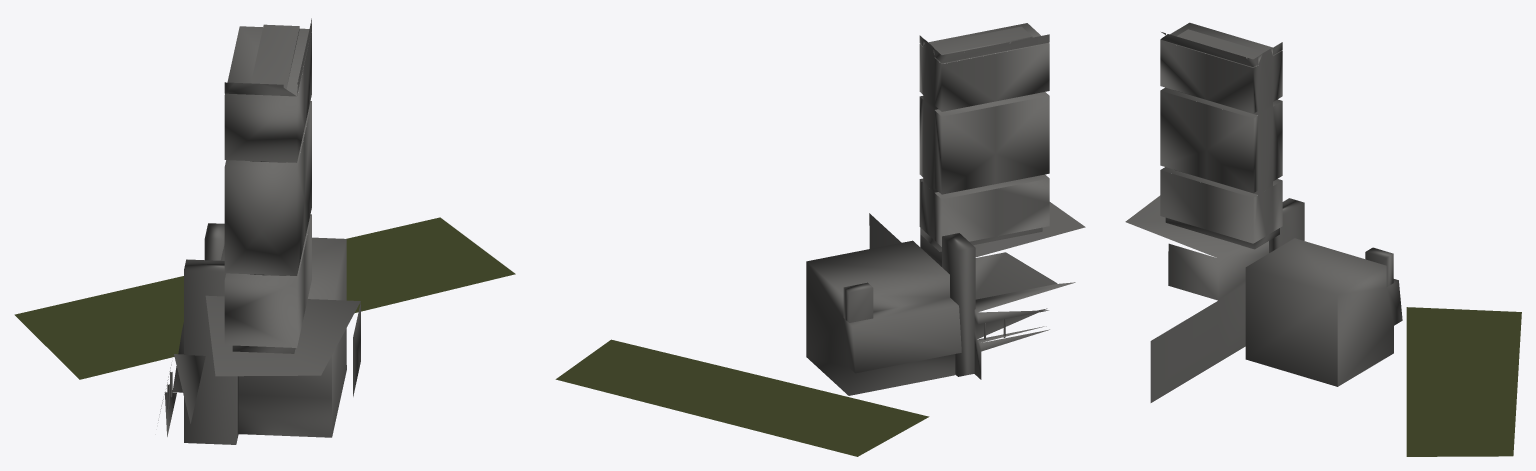
The picture shows the model from 3 angles, left to right: view 1: azimuth 30°, elevation 25°; view 2: azimuth 150°, elevation 25°; view 3: azimuth 270°, elevation 25°; orthographic projection. The views are drawn at different scales.
Visible parts, largest first — view 1: merged__lod1; view 2: merged__lod1; view 3: merged__lod1.
Boxes of the visible parts, bbox=[...] form: merged__lod1: bbox=[14, 18, 515, 444]; merged__lod1: bbox=[555, 23, 1085, 456]; merged__lod1: bbox=[1125, 22, 1521, 456].
Bounding box in the file's own units: 229 × 184 × 224.
